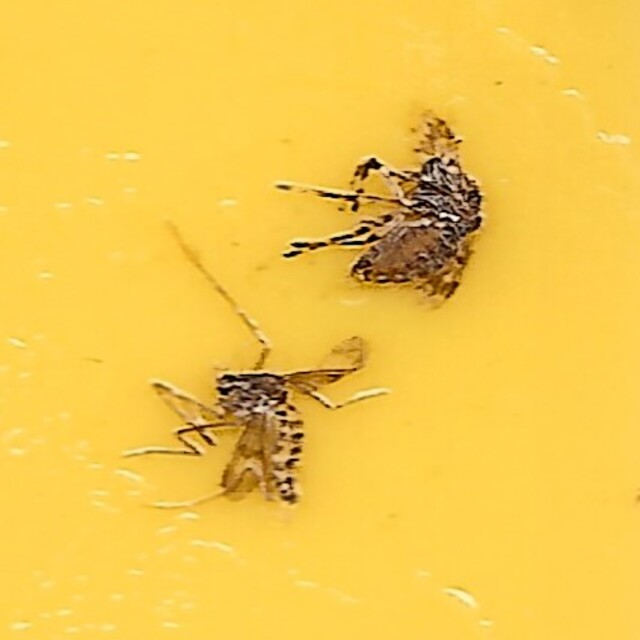Nematocera: (151, 336, 371, 510), (279, 130, 489, 304)
